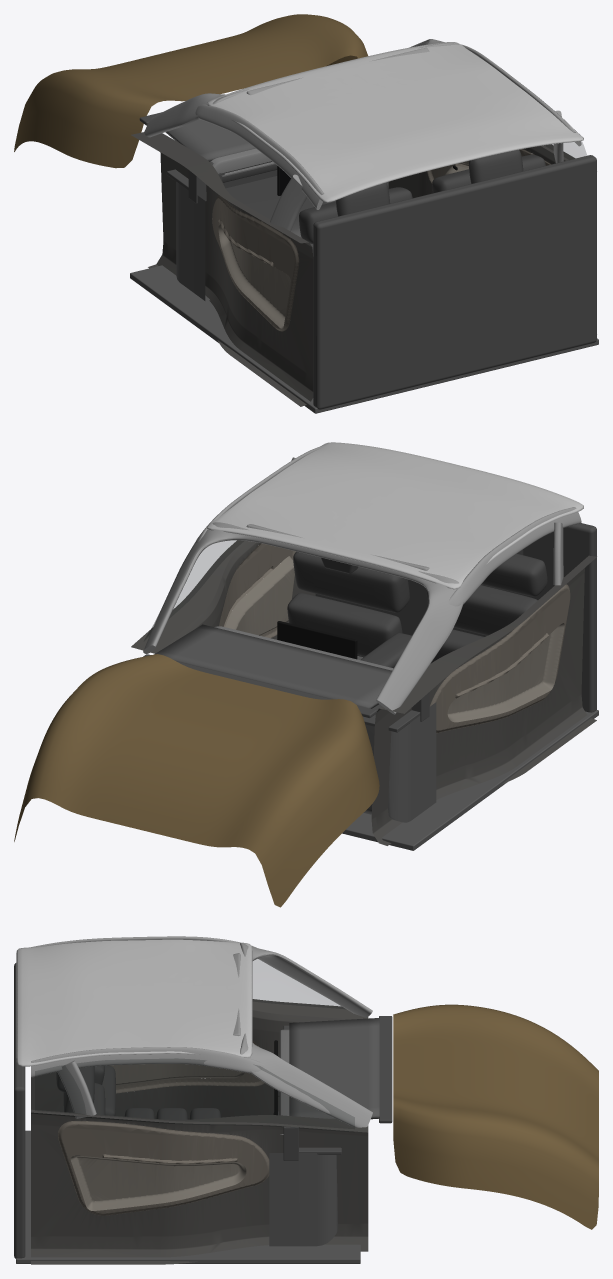
Rendered from cabin.bcfd5cc6.glb.
The picture shows the model from 3 angles, top to bottom: view 1: azimuth 30°, elevation 25°; view 2: azimuth 150°, elevation 25°; view 3: azimuth 270°, elevation 25°; orthographic projection. The views are drawn at different scales.
Visible parts, largest first — view 1: Cabin; view 2: Cabin, Glass; view 3: Cabin, Glass.
Boxes of the visible parts, x1,y1,x2,y2 form: Cabin: (14, 14, 598, 413); Cabin: (14, 442, 598, 907); Glass: (144, 537, 243, 640); Cabin: (14, 936, 598, 1264); Glass: (35, 959, 354, 1132).
Bounding box in the file's own units: 1.72 × 1.2 × 3.07.
